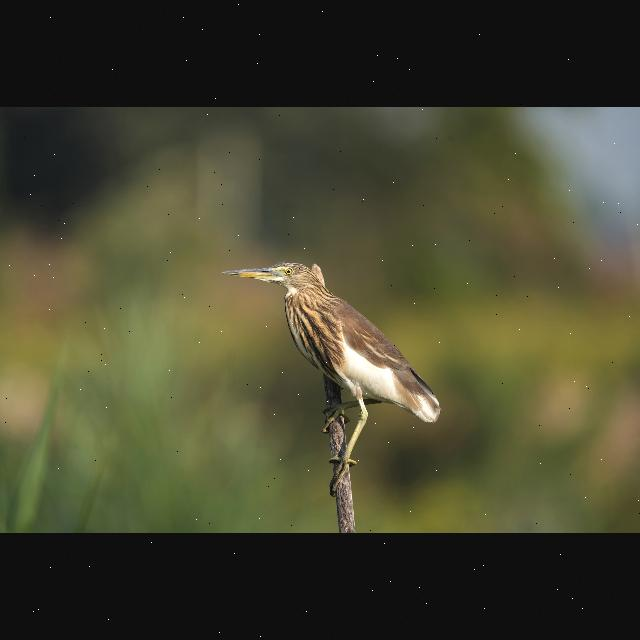heron: (218, 254, 448, 506)
